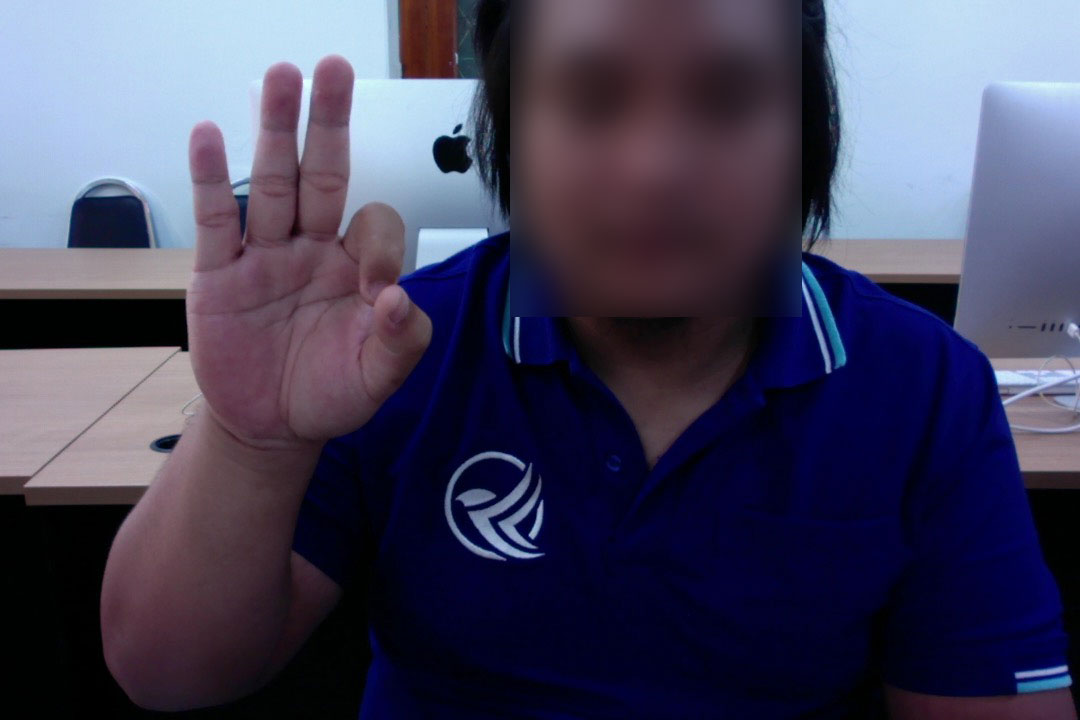for: (158, 24, 455, 482)
